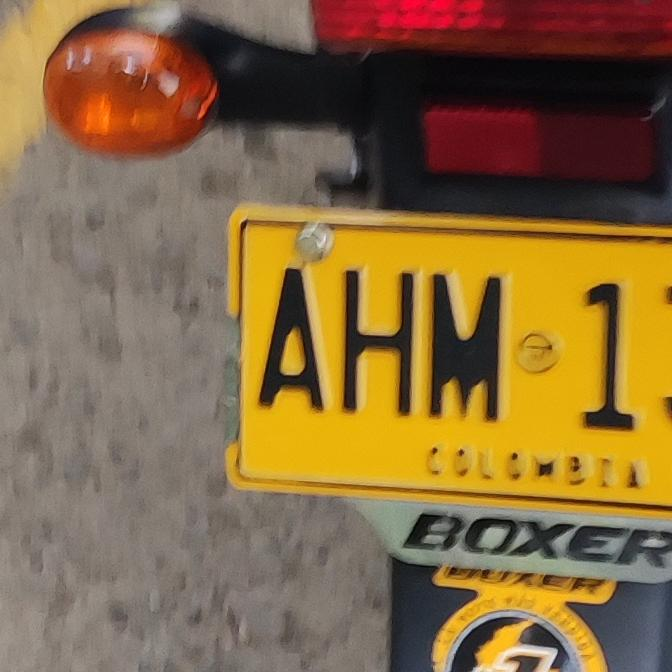plates: (230, 207, 672, 523)
